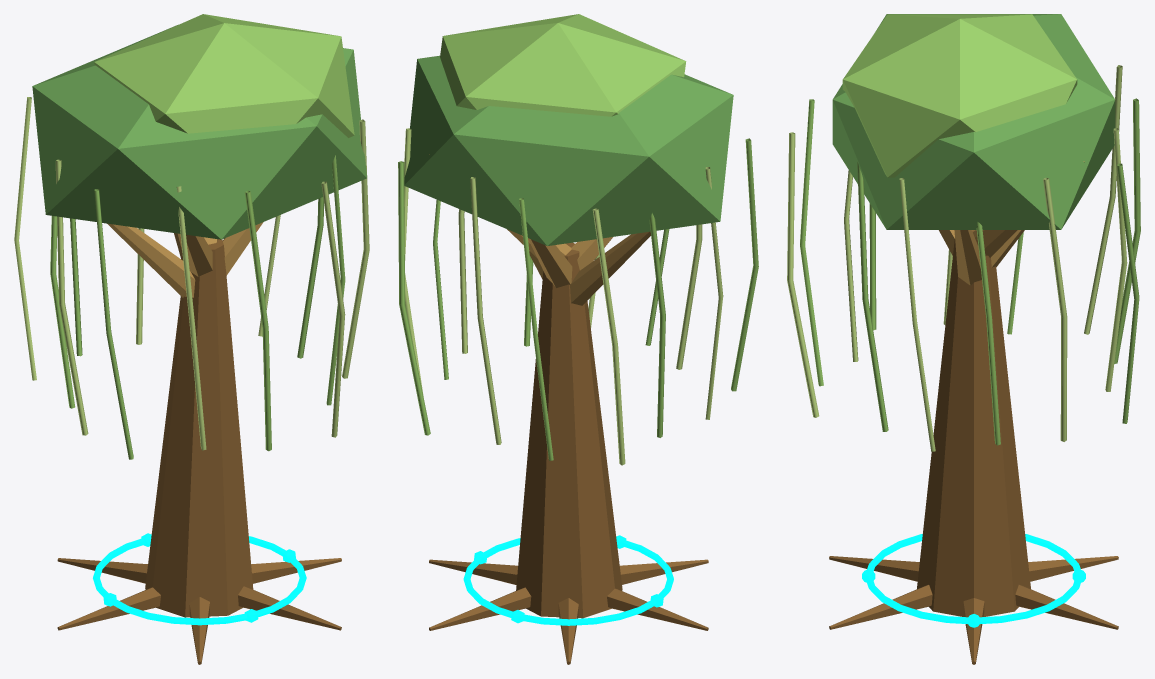
File: mature.glb
3 renders of one model, left to right at view 1: azimuth 30°, elevation 25°; view 2: azimuth 150°, elevation 25°; view 3: azimuth 270°, elevation 25°, orthographic. The views are drawn at different scales.
Visible parts, largest first — view 1: Willow_Crown, Willow_Trunk, Willow_Crown_Light, Chrono_Energy_Ring, Willow_Branch_01, Willow_Frond_11, Willow_Frond_12, Willow_Frond_08, Willow_Frond_14, Willow_Frond_09, Willow_Frond_06, Willow_Frond_10 (+13 smaller); view 2: Willow_Crown, Willow_Trunk, Willow_Crown_Light, Chrono_Energy_Ring, Willow_Branch_01, Willow_Frond_03, Willow_Frond_06, Willow_Frond_04, Willow_Frond_09, Willow_Frond_07, Willow_Frond_05, Root_02 (+12 smaller); view 3: Willow_Crown, Willow_Trunk, Willow_Crown_Light, Chrono_Energy_Ring, Willow_Frond_12, Willow_Frond_02, Willow_Frond_13, Willow_Frond_11, Willow_Frond_05, Willow_Frond_03, Willow_Frond_06, Willow_Frond_04 (+12 smaller).
Part boxes in pixels (x1,y1,x2,y2): Willow_Crown: (32,24,366,239); Willow_Trunk: (145,239,253,617); Willow_Crown_Light: (94,14,354,137); Chrono_Energy_Ring: (93,536,306,625); Willow_Branch_01: (107,223,195,297); Willow_Frond_11: (244,190,271,451); Willow_Frond_12: (321,181,345,437); Willow_Frond_08: (55,159,88,435); Willow_Frond_14: (342,119,369,378); Willow_Frond_09: (94,189,133,459); Willow_Frond_06: (14,97,36,380); Willow_Frond_10: (176,186,206,450); Willow_Crown: (404,55,733,245); Willow_Trunk: (516,242,622,618); Willow_Crown_Light: (440,14,686,116); Chrono_Energy_Ring: (463,538,673,625); Willow_Branch_01: (570,231,650,305); Willow_Frond_03: (398,161,430,435); Willow_Frond_06: (592,208,625,465); Willow_Frond_04: (470,177,501,444); Willow_Frond_09: (731,138,758,391); Willow_Frond_07: (649,213,665,437); Willow_Frond_05: (519,198,553,460); Root_02: (429,587,531,630); Willow_Crown: (832,14,1115,229); Willow_Trunk: (917,230,1030,616); Willow_Crown_Light: (842,14,1077,177); Chrono_Energy_Ring: (866,534,1081,623); Willow_Frond_12: (787,132,819,417); Willow_Frond_02: (1043,177,1067,441); Willow_Frond_13: (857,162,888,431); Willow_Frond_11: (800,99,823,386); Willow_Frond_05: (1114,98,1140,363); Willow_Frond_03: (1117,163,1139,423); Willow_Frond_06: (1084,65,1122,334); Willow_Frond_04: (1105,128,1127,391).
Bounding box in the file's own units: 2.08 × 3.7 × 2.03.
